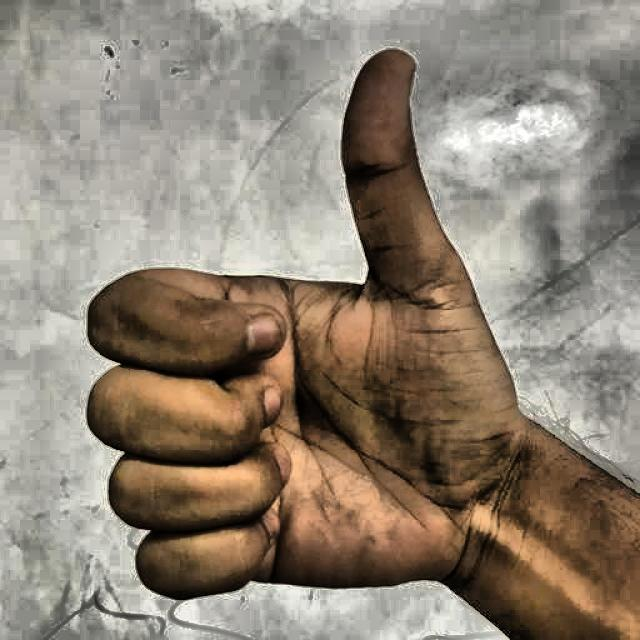Do: (68, 28, 536, 615)
